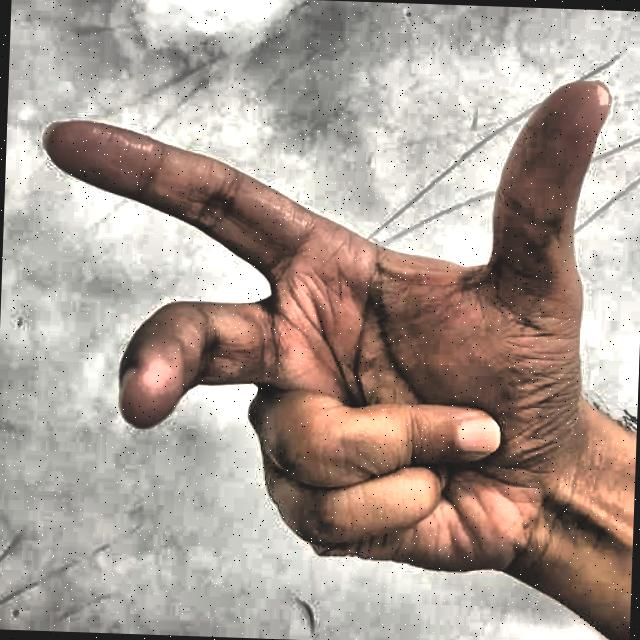Da: (14, 6, 622, 622)
